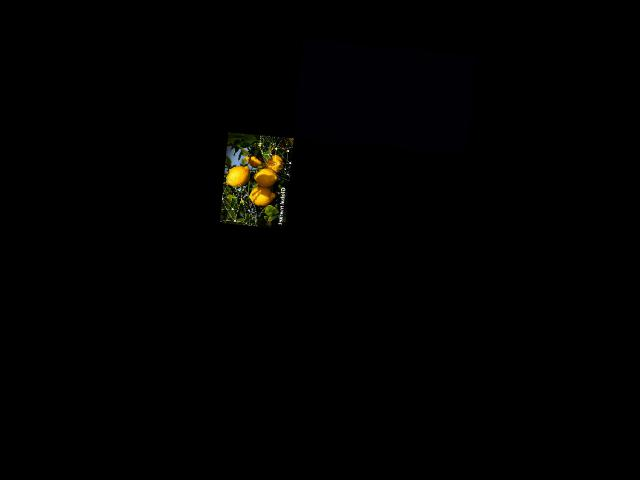lemon: (223, 163, 252, 188)
